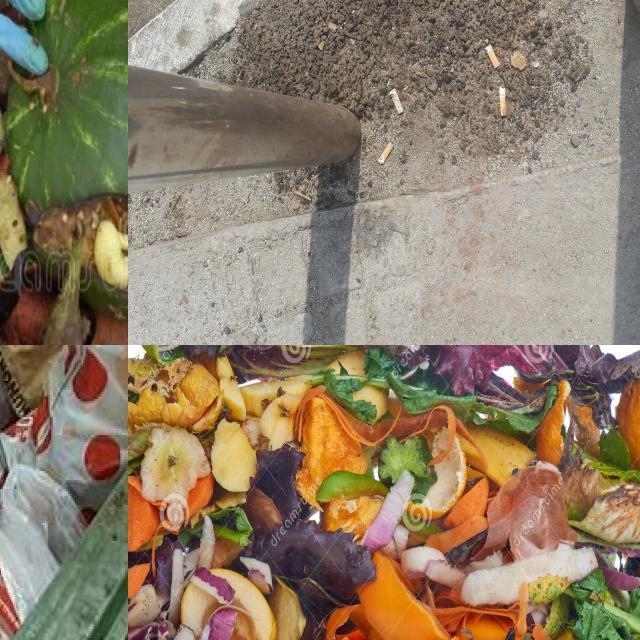Background: (128, 0, 640, 254)
Cig_bud: (389, 89, 404, 114), (485, 44, 500, 69), (378, 142, 394, 164), (499, 86, 506, 116)
Garbage: (128, 345, 640, 640), (0, 345, 128, 640)
Plastic_Bag: (0, 345, 128, 640)
